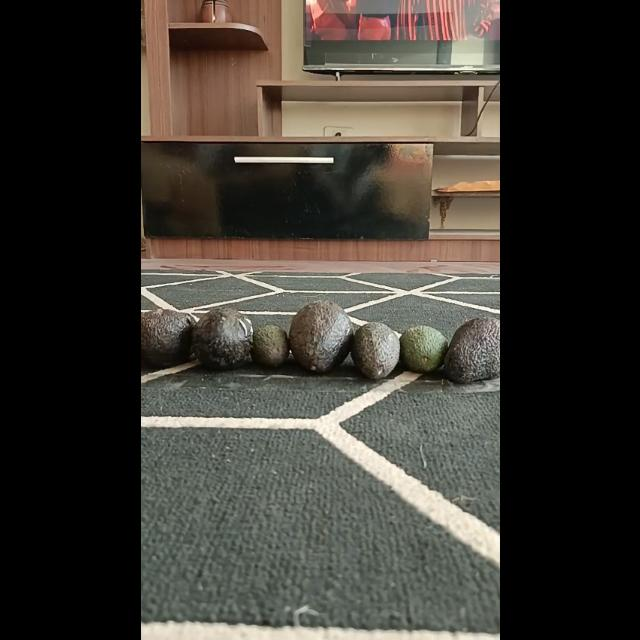Primera: (288, 300, 352, 372), (190, 306, 253, 369), (443, 317, 499, 383), (140, 308, 194, 368)
Segunda: (350, 323, 400, 379), (398, 325, 448, 373)
Tercera: (250, 324, 288, 368)
